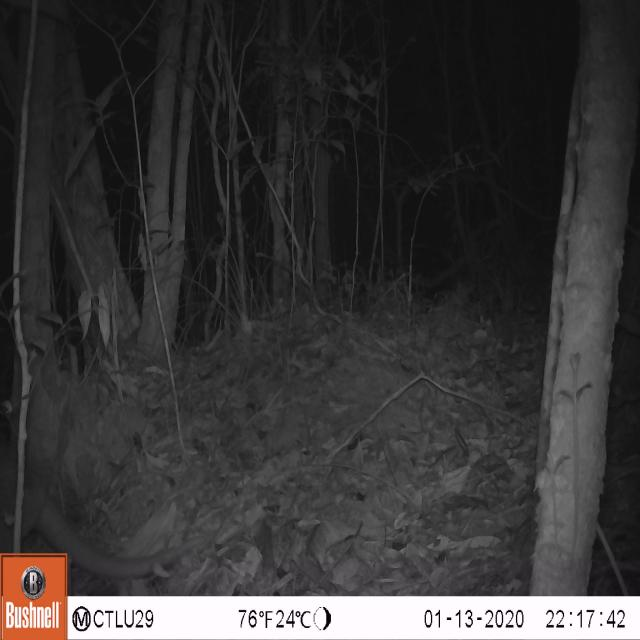Armadillo: (0, 427, 179, 584)
